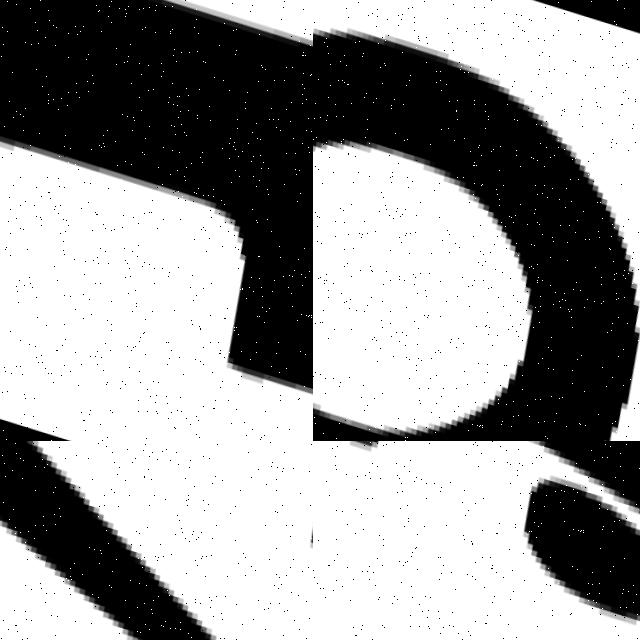7: (0, 441, 313, 640)
C: (516, 441, 640, 619)
O: (313, 28, 633, 441)
R: (0, 0, 313, 441)
